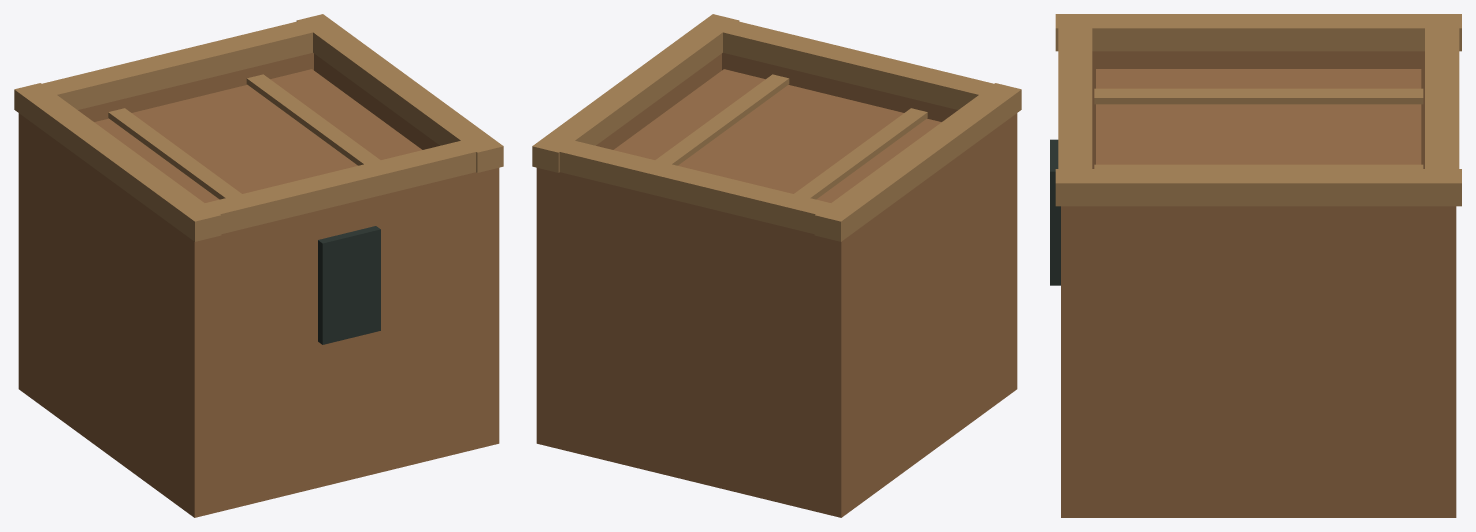
File: normal-full.glb
3 views of the same model, side by side, from view 1: azimuth 30°, elevation 25°; view 2: azimuth 150°, elevation 25°; view 3: azimuth 270°, elevation 25° (orthographic). The views are drawn at different scales.
Parts seen in each view (by area): view 1: Mesh_CargoContainer_Cargo_Paint.002, Mesh_CargoFill_Cargo_Paint.002; view 2: Mesh_CargoContainer_Cargo_Paint.002, Mesh_CargoFill_Cargo_Paint.002; view 3: Mesh_CargoContainer_Cargo_Paint.002, Mesh_CargoFill_Cargo_Paint.002.
Boxes of the visible parts, <box> form: Mesh_CargoContainer_Cargo_Paint.002: <box>14,14,503,517</box>; Mesh_CargoFill_Cargo_Paint.002: <box>94,69,421,202</box>; Mesh_CargoContainer_Cargo_Paint.002: <box>532,14,1021,517</box>; Mesh_CargoFill_Cargo_Paint.002: <box>614,69,941,202</box>; Mesh_CargoContainer_Cargo_Paint.002: <box>1050,14,1461,517</box>; Mesh_CargoFill_Cargo_Paint.002: <box>1094,69,1423,168</box>.
Size of the model in its own units: 0.223 by 0.206 by 0.229.
